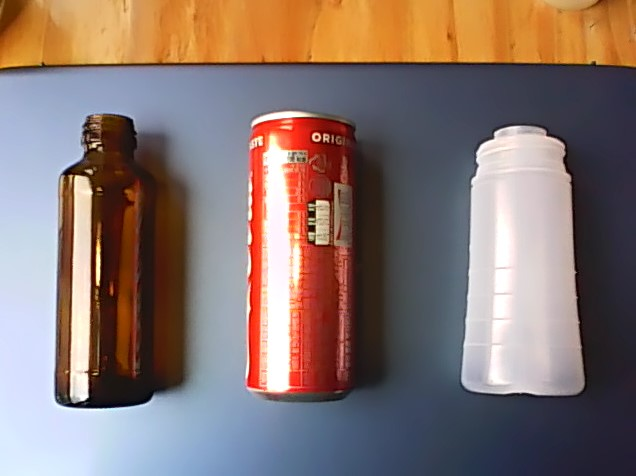Can: (238, 105, 362, 405)
Glass: (50, 108, 159, 409)
Plastic: (454, 120, 591, 401)
